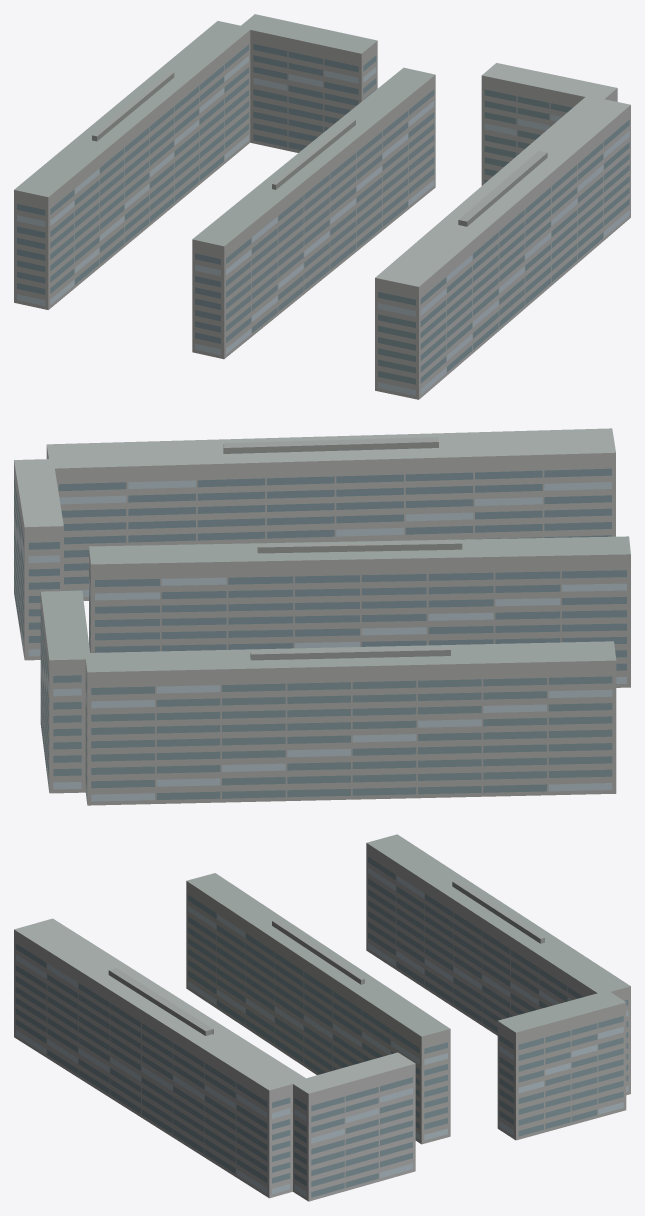
File: apt-a13790721.glb
The picture shows the model from 3 angles, top to bottom: view 1: azimuth 30°, elevation 25°; view 2: azimuth 150°, elevation 25°; view 3: azimuth 270°, elevation 25°; orthographic projection. The views are drawn at different scales.
Visible parts, largest first — view 1: apt-a13790721; view 2: apt-a13790721; view 3: apt-a13790721.
Boxes of the visible parts, x1=… form: apt-a13790721: x1=14, y1=14, x2=630, y2=399; apt-a13790721: x1=14, y1=428, x2=630, y2=805; apt-a13790721: x1=14, y1=834, x2=630, y2=1201.
Bounding box in the file's own units: 157 × 31.87 × 158.
